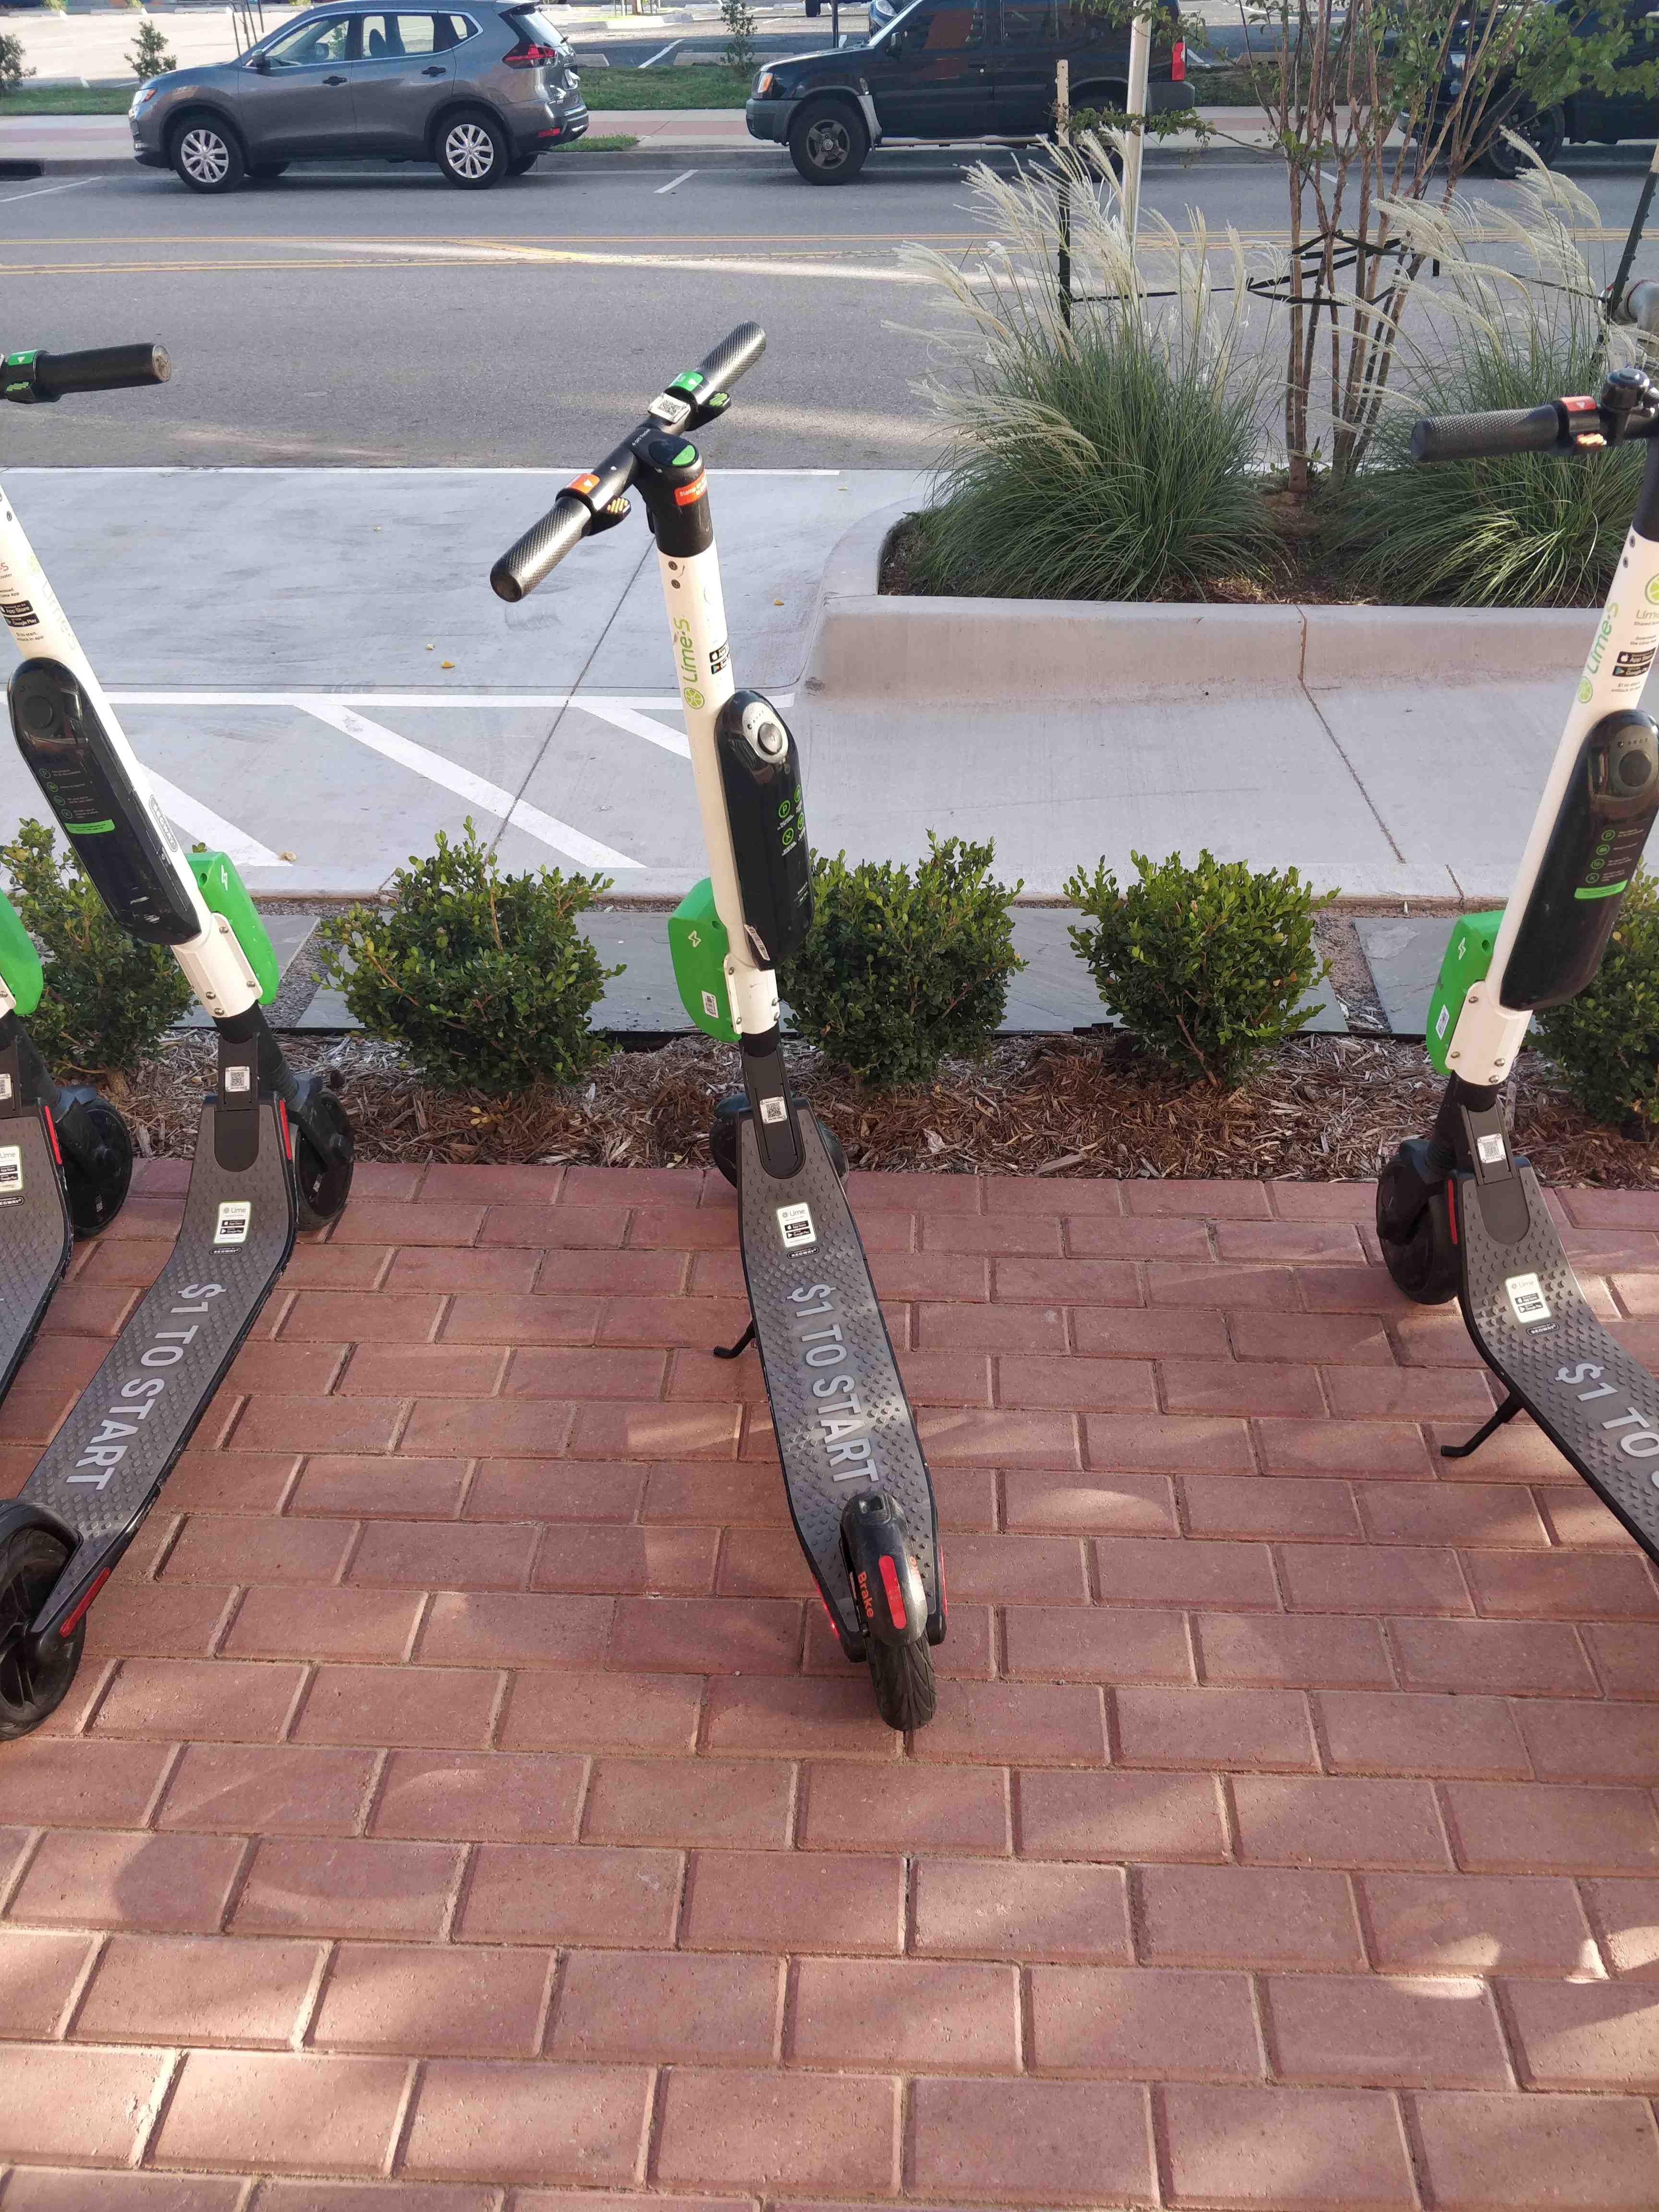scooter: (448, 319, 1014, 1784)
